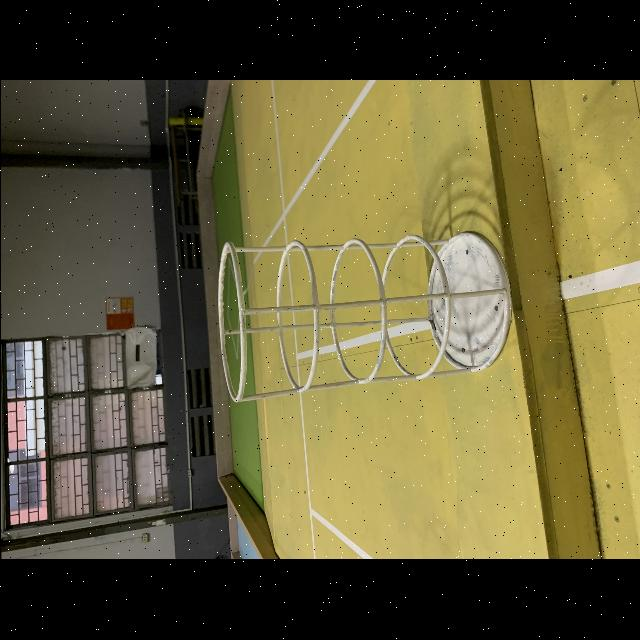S: (215, 232, 513, 406)
